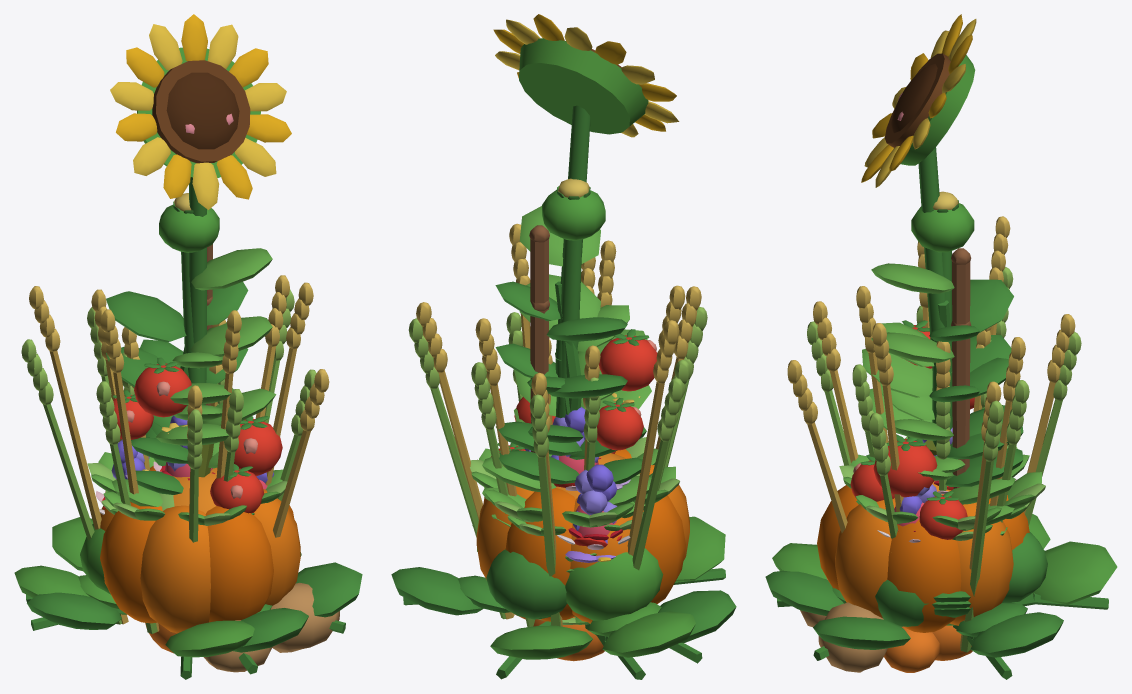
The model's file is crops.glb.
3 views of the same model, side by side, from view 1: azimuth 30°, elevation 25°; view 2: azimuth 150°, elevation 25°; view 3: azimuth 270°, elevation 25° (orthographic). The views are drawn at different scales.
Visible parts, largest first — view 1: crop_kuerbis_3, crop_sonnenblume_3_head, crop_weizen_3, crop_tomate_3, crop_kuerbis_2, crop_weizen_2, crop_sonnenblume_3, crop_sonnenblume_2, crop_kartoffel_3, crop_karotte_3, crop_tomate_2, crop_hyazinthe_3 (+1 smaller); view 2: crop_kuerbis_3, crop_sonnenblume_3_head, crop_weizen_3, crop_weizen_2, crop_tomate_3, crop_kuerbis_2, crop_sonnenblume_2, crop_kartoffel_3, crop_sonnenblume_3, crop_karotte_3, crop_tomate_2, crop_hyazinthe_3 (+3 smaller); view 3: crop_kuerbis_3, crop_weizen_3, crop_tomate_3, crop_weizen_2, crop_kuerbis_2, crop_sonnenblume_3_head, crop_sonnenblume_3, crop_sonnenblume_2, crop_kartoffel_3, crop_karotte_3, crop_tomate_2, crop_kuerbis_1 (+1 smaller).
Boxes of the visible parts, box(x1,y1,x2,y2) form: crop_kuerbis_3: box(14, 442, 308, 674); crop_sonnenblume_3_head: box(110, 14, 291, 209); crop_weizen_3: box(29, 275, 329, 631); crop_tomate_3: box(112, 244, 282, 514); crop_kuerbis_2: box(27, 517, 362, 679); crop_weizen_2: box(21, 289, 316, 633); crop_sonnenblume_3: box(106, 177, 272, 506); crop_sonnenblume_2: box(106, 193, 272, 466); crop_kartoffel_3: box(80, 468, 339, 672); crop_karotte_3: box(87, 452, 287, 653); crop_tomate_2: box(135, 296, 248, 494); crop_hyazinthe_3: box(111, 415, 273, 483); crop_kuerbis_3: box(391, 449, 695, 679); crop_sonnenblume_3_head: box(493, 14, 679, 137); crop_weizen_3: box(416, 223, 701, 626); crop_weizen_2: box(408, 306, 707, 627); crop_tomate_3: box(482, 225, 657, 561); crop_kuerbis_2: box(394, 516, 736, 679); crop_sonnenblume_2: box(499, 178, 651, 518); crop_kartoffel_3: box(486, 474, 663, 620); crop_sonnenblume_3: box(496, 105, 651, 506); crop_karotte_3: box(470, 437, 679, 661); crop_tomate_2: box(477, 300, 642, 572); crop_hyazinthe_3: box(524, 406, 617, 543); crop_kuerbis_3: box(765, 440, 1063, 677); crop_weizen_3: box(787, 216, 1075, 649); crop_tomate_3: box(850, 248, 1015, 602); crop_weizen_2: box(807, 267, 1081, 652); crop_kuerbis_2: box(772, 541, 1117, 679); crop_sonnenblume_3_head: box(861, 14, 976, 187); crop_sonnenblume_3: box(862, 147, 1023, 459); crop_sonnenblume_2: box(869, 191, 1023, 486); crop_kartoffel_3: box(800, 532, 1047, 672); crop_karotte_3: box(839, 436, 1045, 672); crop_tomate_2: box(880, 321, 1014, 608); crop_kuerbis_1: box(832, 587, 1027, 645).
Size of the model in its own units: 0.721 by 1.51 by 0.7634.
